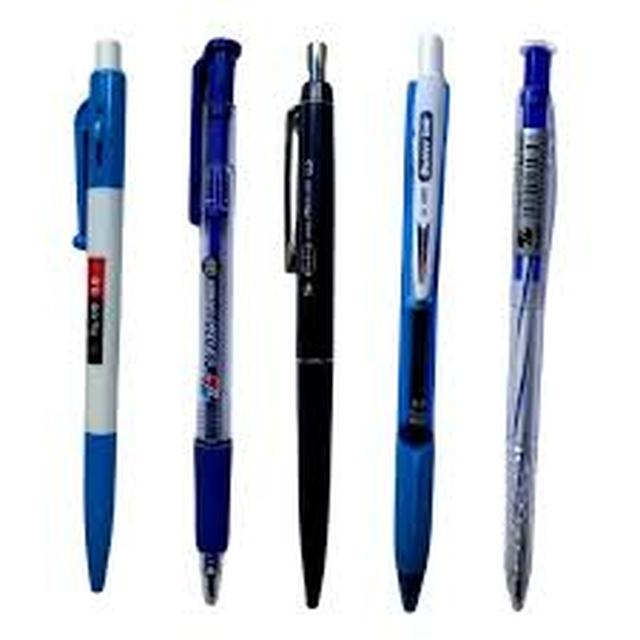pen: (268, 32, 352, 599), (180, 22, 249, 599), (378, 33, 444, 617), (500, 33, 560, 632), (74, 42, 127, 596)
